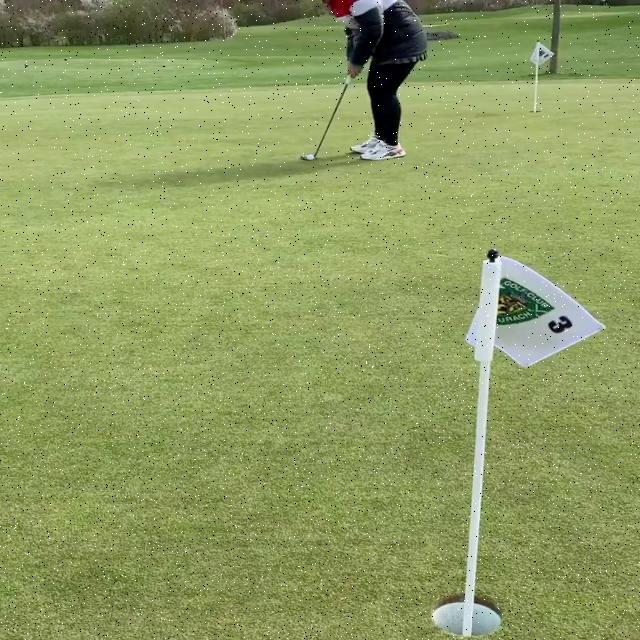ClubHandle: (301, 75, 350, 160)
ClubHead: (300, 155, 319, 160)
GolfBall: (306, 155, 313, 161)
